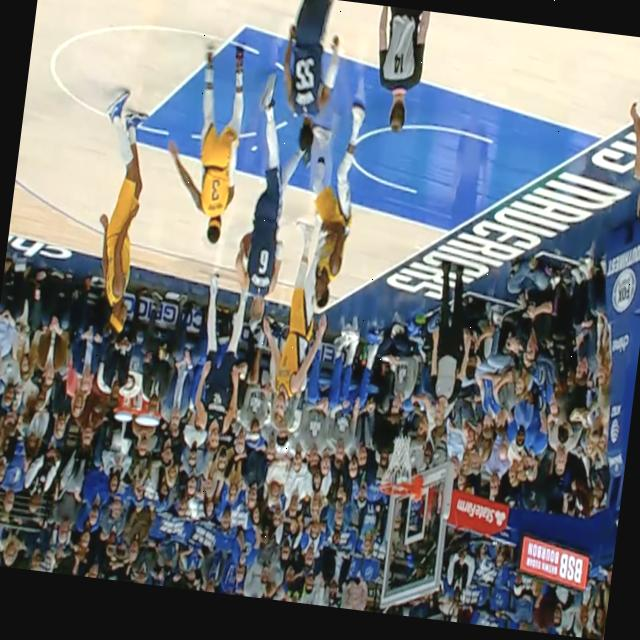no foul: (158, 41, 311, 335), (224, 80, 389, 346)
